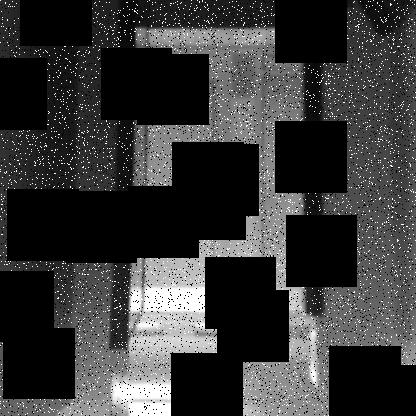Porte: (106, 1, 326, 351)
